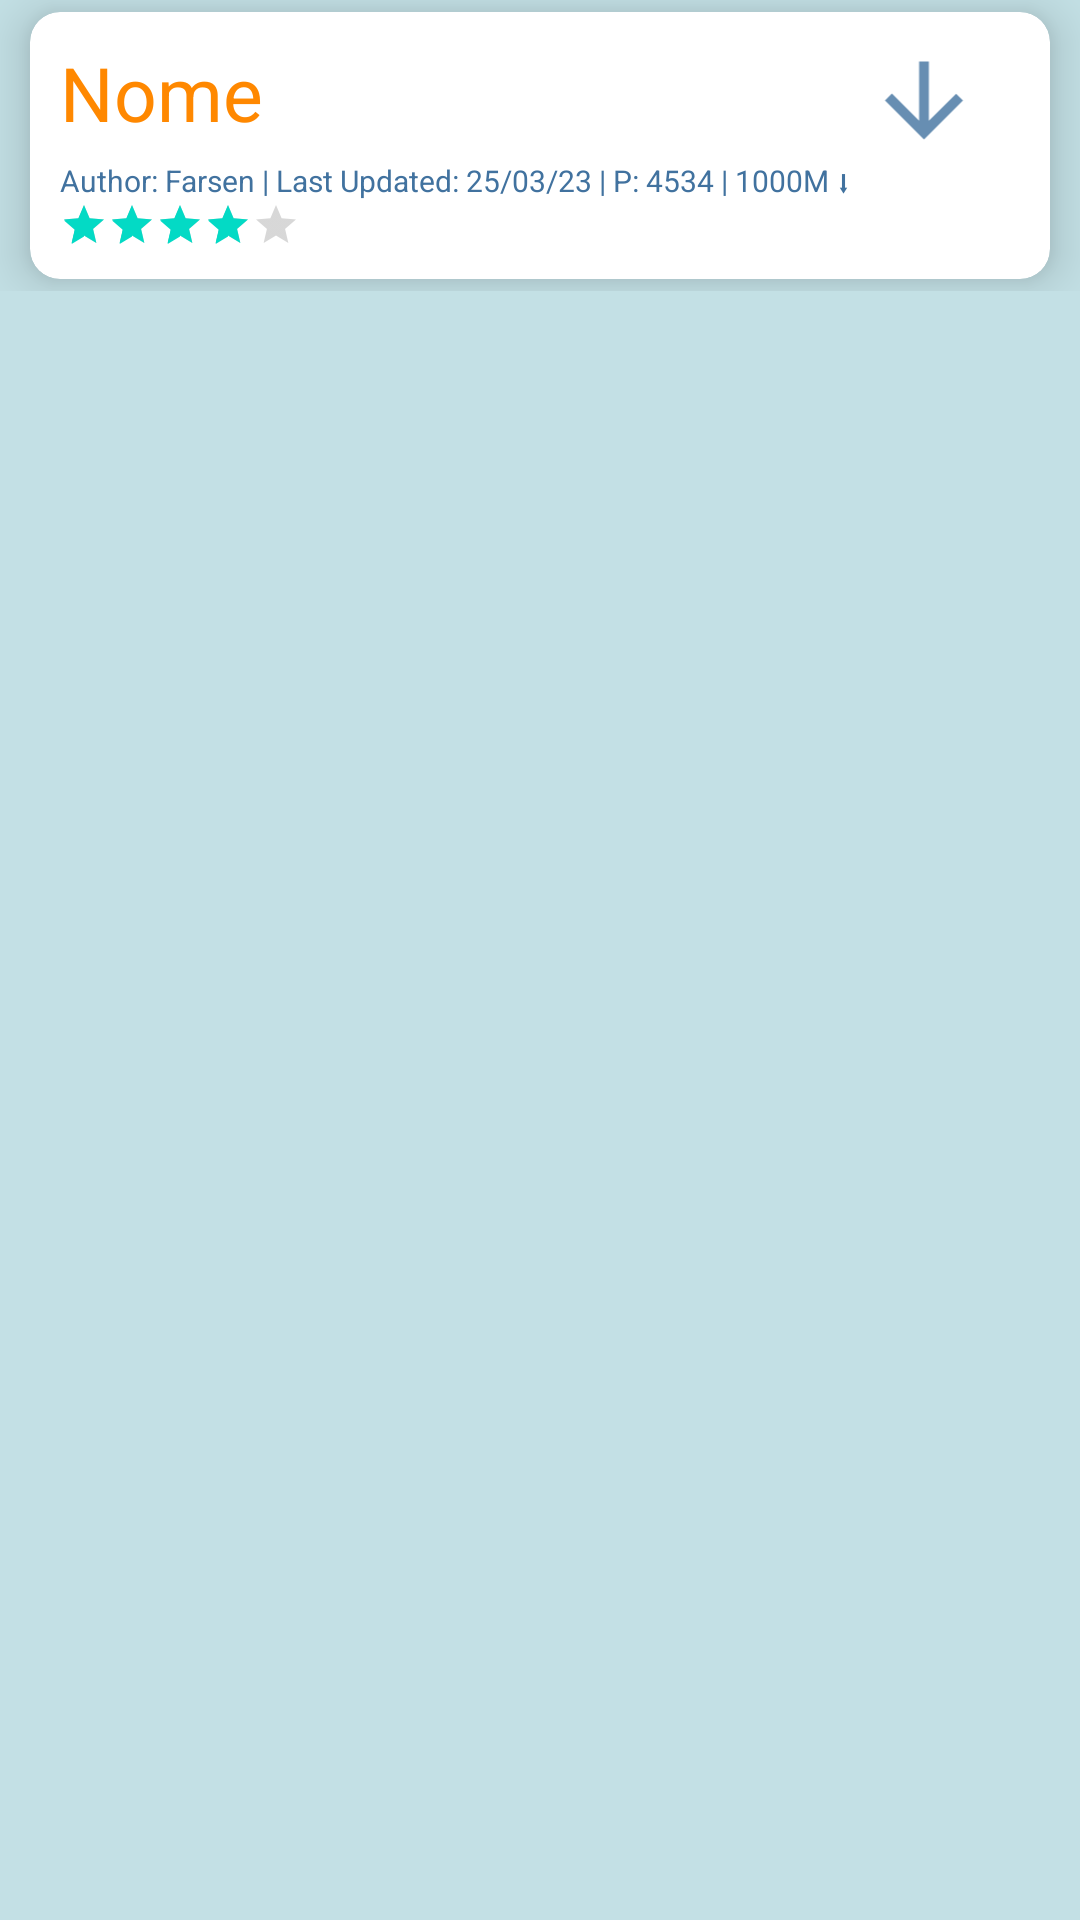

Screen size 1080 x 1920. Icon name, then its center in pixels as [x,y]:
download: [924,100]
